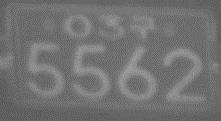0: (63, 13, 92, 39)
2: (163, 47, 205, 104)
3: (95, 12, 125, 40)
5: (25, 42, 65, 99), (72, 44, 110, 100)
6: (118, 46, 156, 102)
구: (128, 13, 156, 39)
